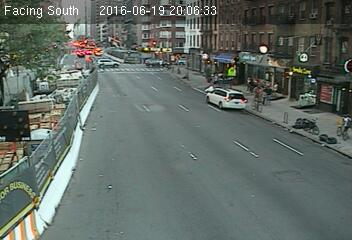neg: (86, 64, 110, 95), (58, 41, 76, 66), (165, 61, 182, 83), (109, 54, 118, 66)
pos: (262, 85, 279, 107), (248, 76, 261, 94), (209, 71, 219, 85)
